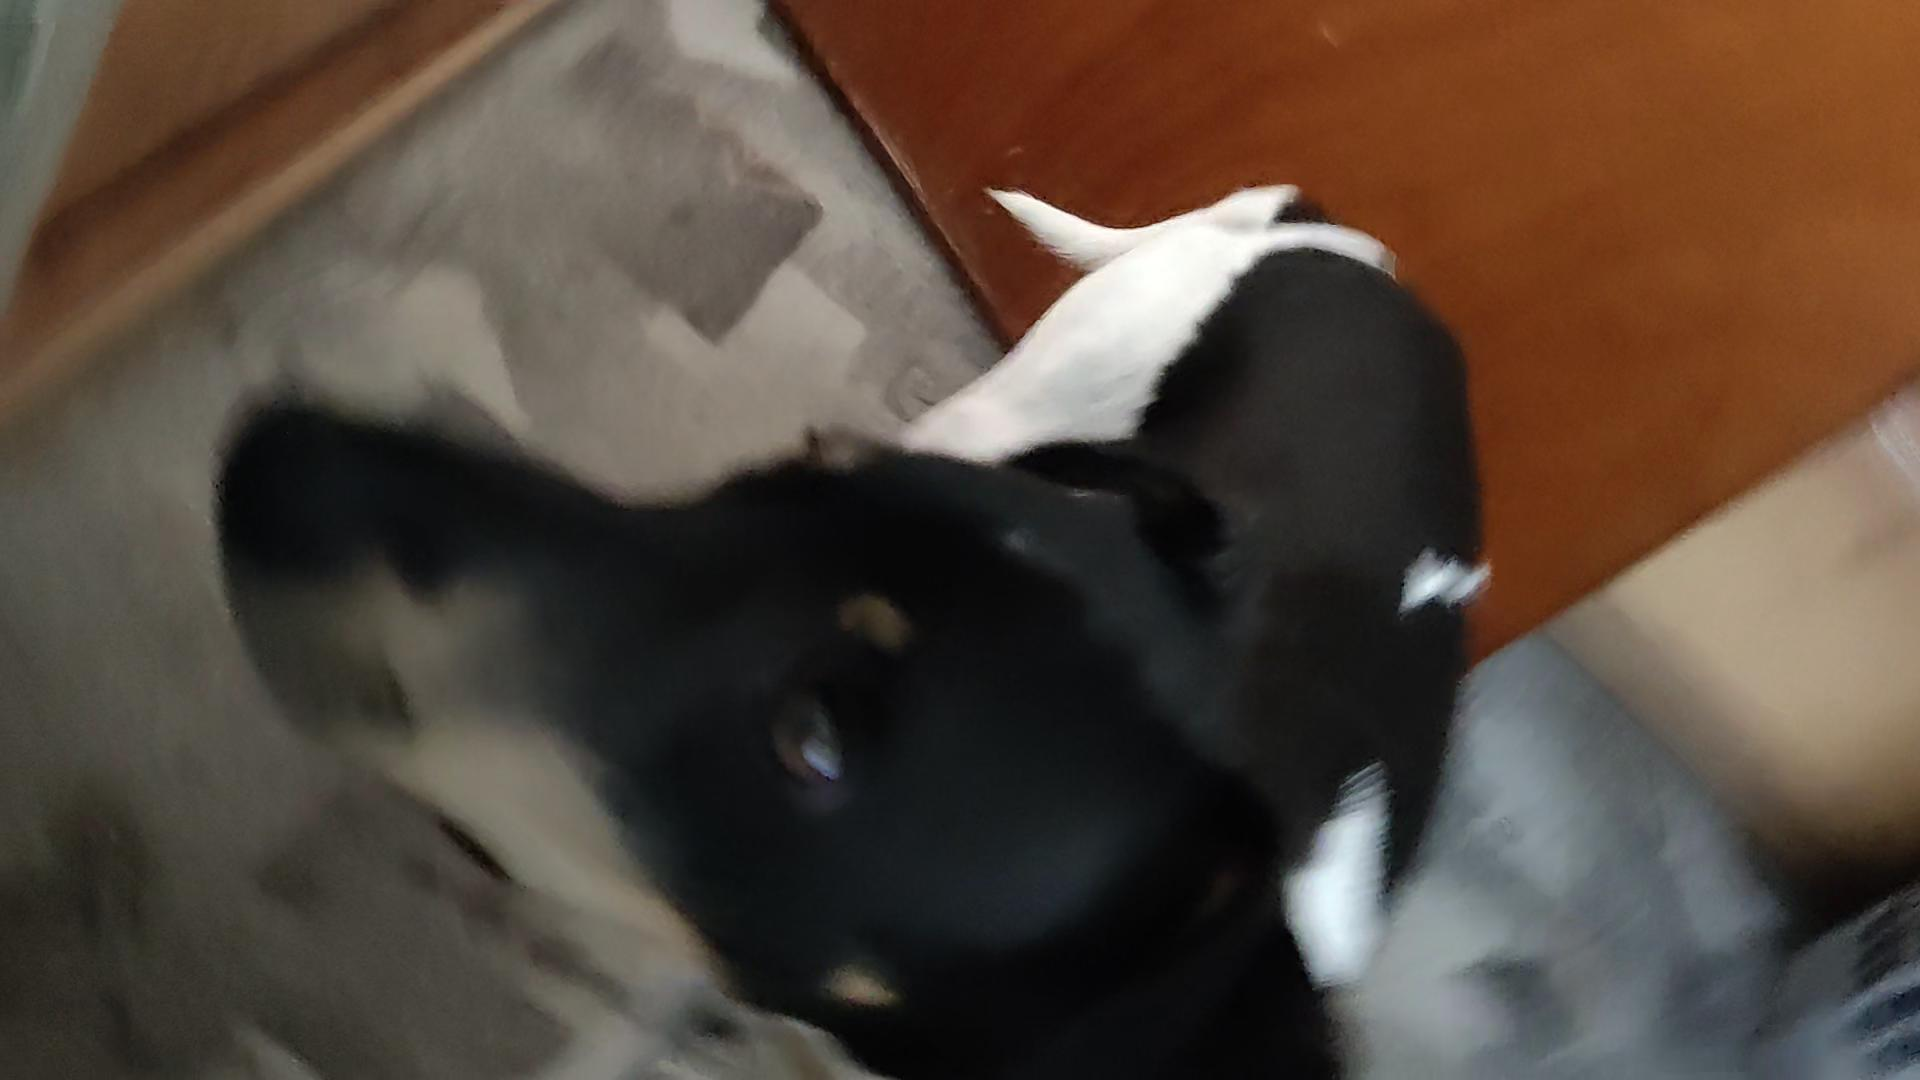Dog: (189, 150, 1509, 1079)
